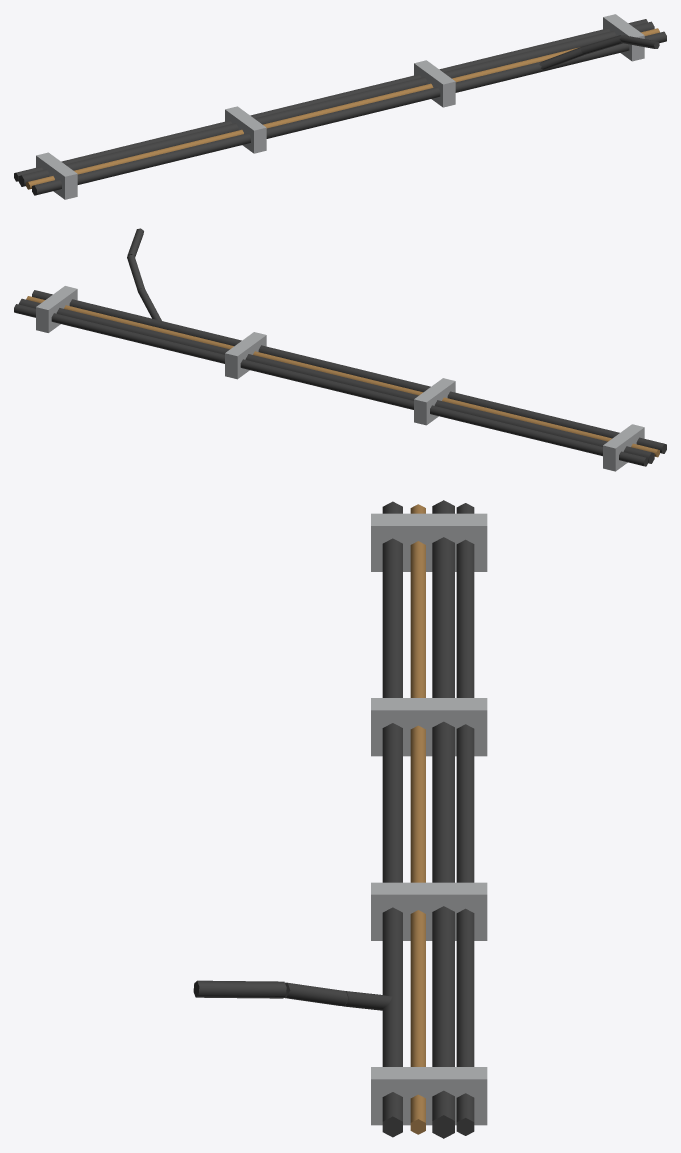
The model's file is cableRun_steel.glb.
3 views of the same model, one above another, from view 1: azimuth 30°, elevation 25°; view 2: azimuth 150°, elevation 25°; view 3: azimuth 270°, elevation 25° (orthographic). The views are drawn at different scales.
Visible parts, largest first — view 1: cableRun_steel; view 2: cableRun_steel; view 3: cableRun_steel.
Part boxes in pixels (x1=…): cableRun_steel: x1=14, y1=14, x2=666, y2=199; cableRun_steel: x1=14, y1=228, x2=666, y2=471; cableRun_steel: x1=193, y1=500, x2=487, y2=1138.
Size of the model in its own units: 2 by 0.1716 by 0.404.
